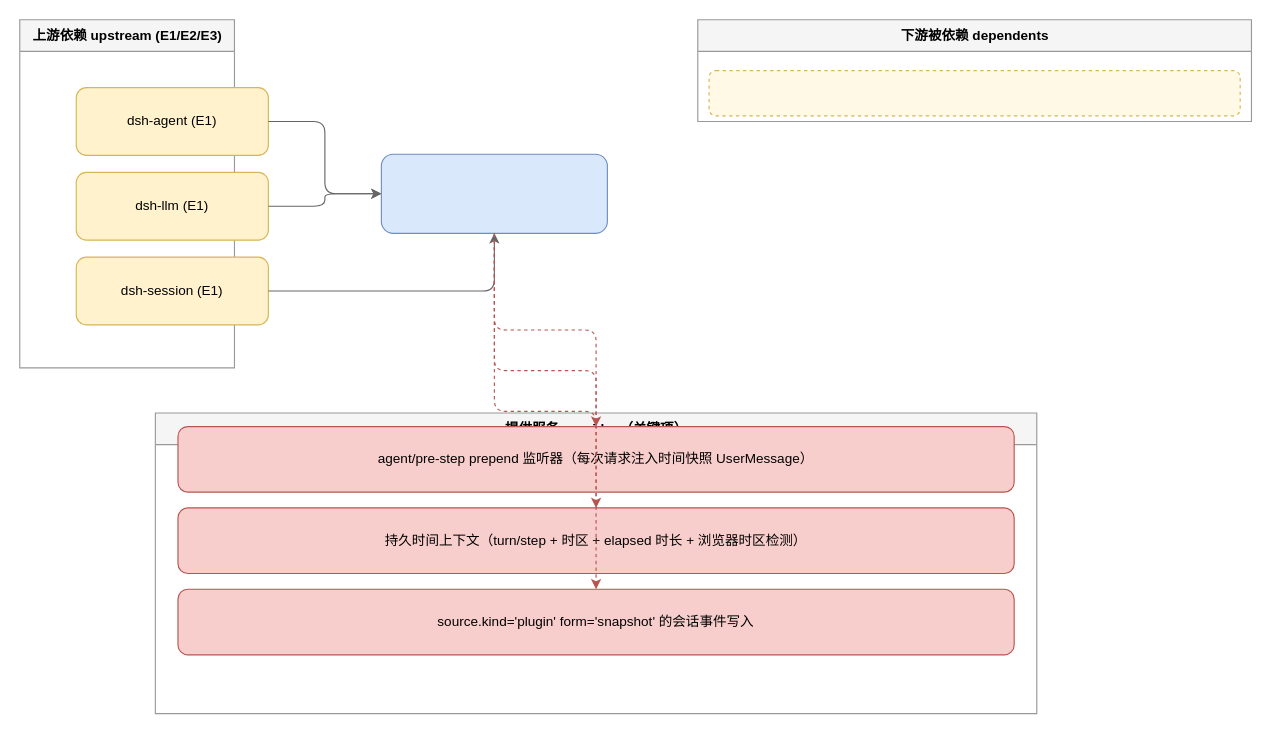
Image size: 1271x733. Some labels were removed from this diagram. The shapes that lost their labels are listed below. From the top down, each one's centre as x and y in pixels, then its label:
[974,92]: … 无下游依赖（L3 扩展点，共 0 个）
[493,193]: @deepseek-ai/dsh-time-context
